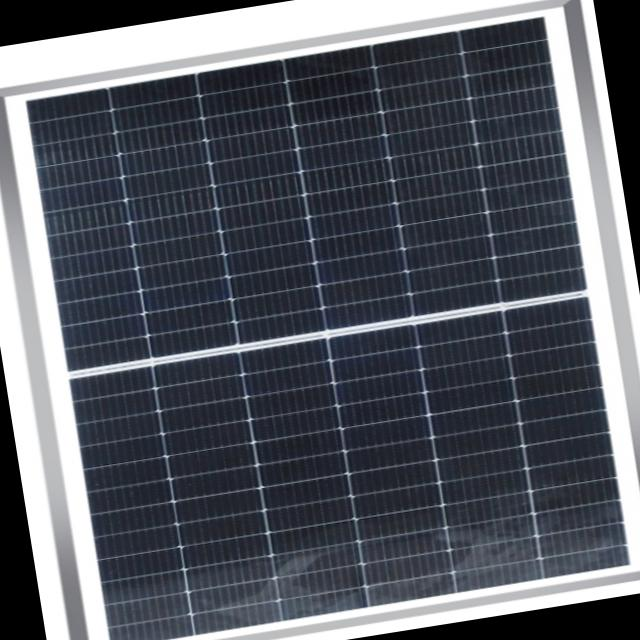faulty: (10, 18, 624, 640)
